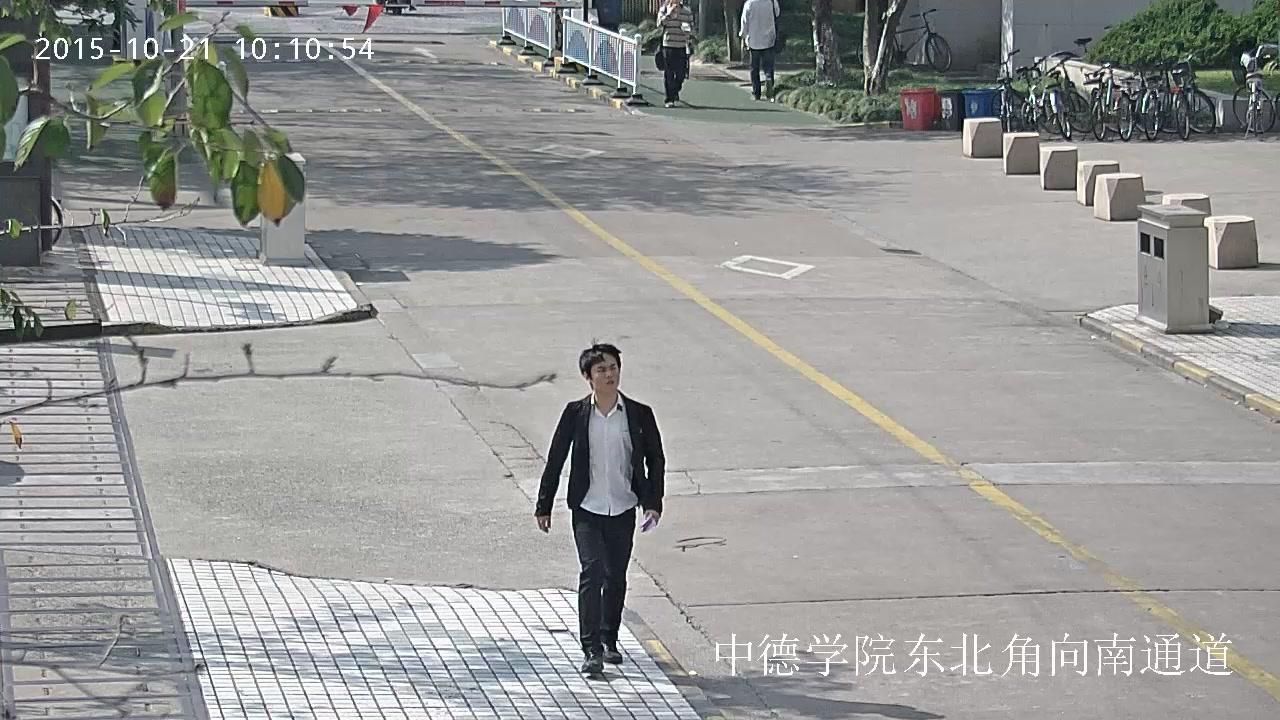face: (590, 353, 619, 391)
